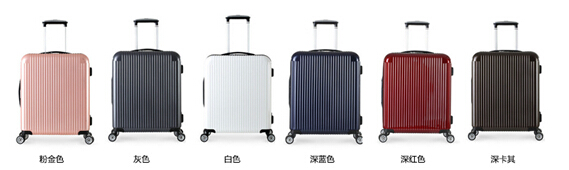suitcase: (16, 20, 96, 146), (108, 17, 188, 143), (198, 16, 278, 142), (285, 18, 365, 144), (377, 18, 457, 144), (466, 21, 546, 142)
